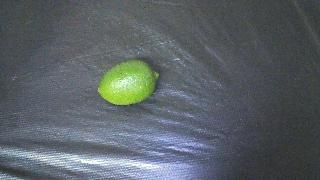LOCAL: (97, 60, 159, 105)
